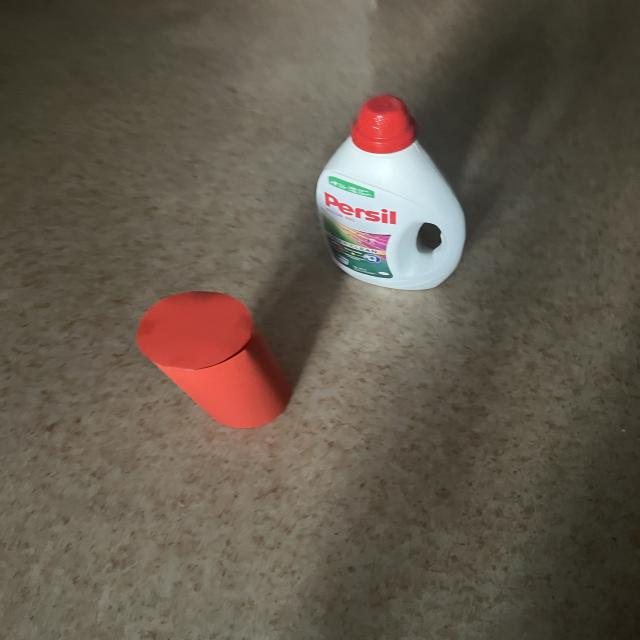przeszkoda: (136, 292, 291, 428)
